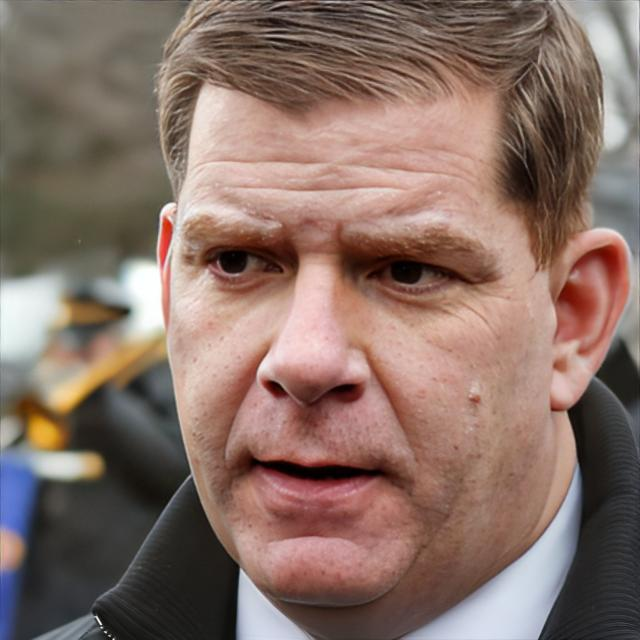anger: (166, 79, 554, 622)
